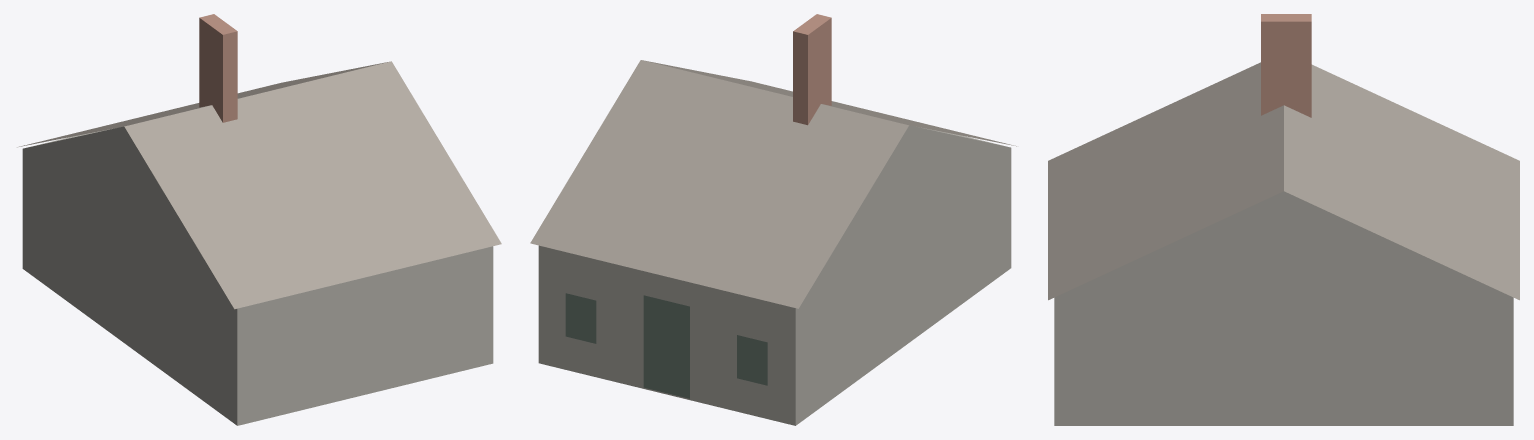
File: recon_1835_south_d5_011__recommended_1835.glb
The picture shows the model from 3 angles, left to right: view 1: azimuth 30°, elevation 25°; view 2: azimuth 150°, elevation 25°; view 3: azimuth 270°, elevation 25°; orthographic projection. The views are drawn at different scales.
Visible parts, largest first — view 1: recon_1835_south_d5_011__recommended_1835; view 2: recon_1835_south_d5_011__recommended_1835; view 3: recon_1835_south_d5_011__recommended_1835.
Part boxes in pixels (x1,y1,x2,y2): recon_1835_south_d5_011__recommended_1835: [17, 14, 501, 425]; recon_1835_south_d5_011__recommended_1835: [530, 14, 1016, 425]; recon_1835_south_d5_011__recommended_1835: [1048, 14, 1519, 425].
Bounding box in the file's own units: 6.48 × 6.95 × 9.25.
